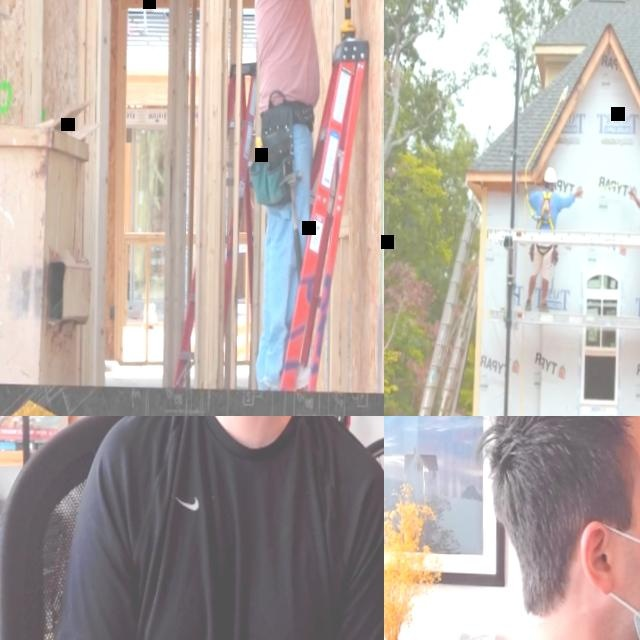Hardhat: (543, 166, 557, 182)
Mask: (602, 509, 640, 640)
NO-Hardhat: (487, 416, 640, 470)
NO-Mask: (550, 186, 554, 191)
NO-Safety Vest: (121, 416, 366, 640), (253, 0, 323, 100), (536, 190, 559, 229)
Person: (54, 416, 384, 640), (386, 416, 640, 640), (244, 0, 379, 389), (525, 166, 585, 311), (624, 177, 640, 314)
